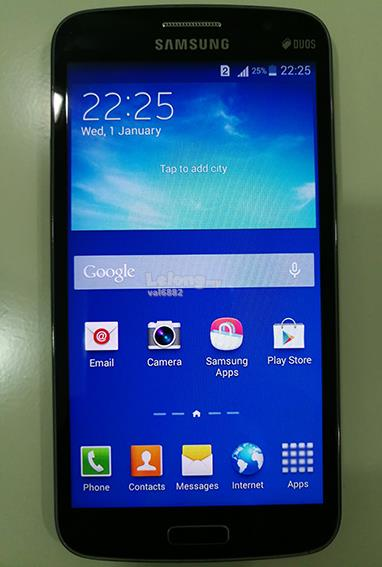Handphone: (46, 1, 347, 566)
